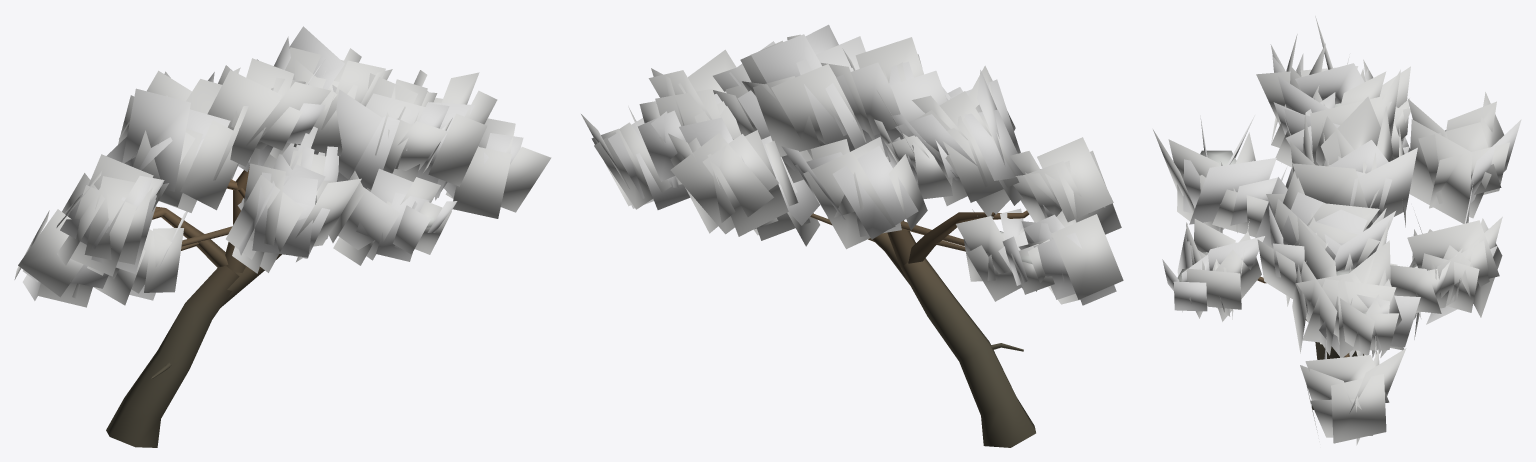
The picture shows the model from 3 angles, left to right: view 1: azimuth 30°, elevation 25°; view 2: azimuth 150°, elevation 25°; view 3: azimuth 270°, elevation 25°; orthographic projection. The views are drawn at different scales.
Visible parts, largest first — view 1: crown, trunk; view 2: crown, trunk; view 3: crown.
Boxes of the visible parts, <box> form: crown: <box>14,26,551,307</box>; trunk: <box>106,167,281,447</box>; crown: <box>581,24,1123,305</box>; trunk: <box>810,210,1035,447</box>; crown: <box>1153,16,1521,445</box>.
Size of the model in its own units: 12.36 by 8.3 by 6.43.
